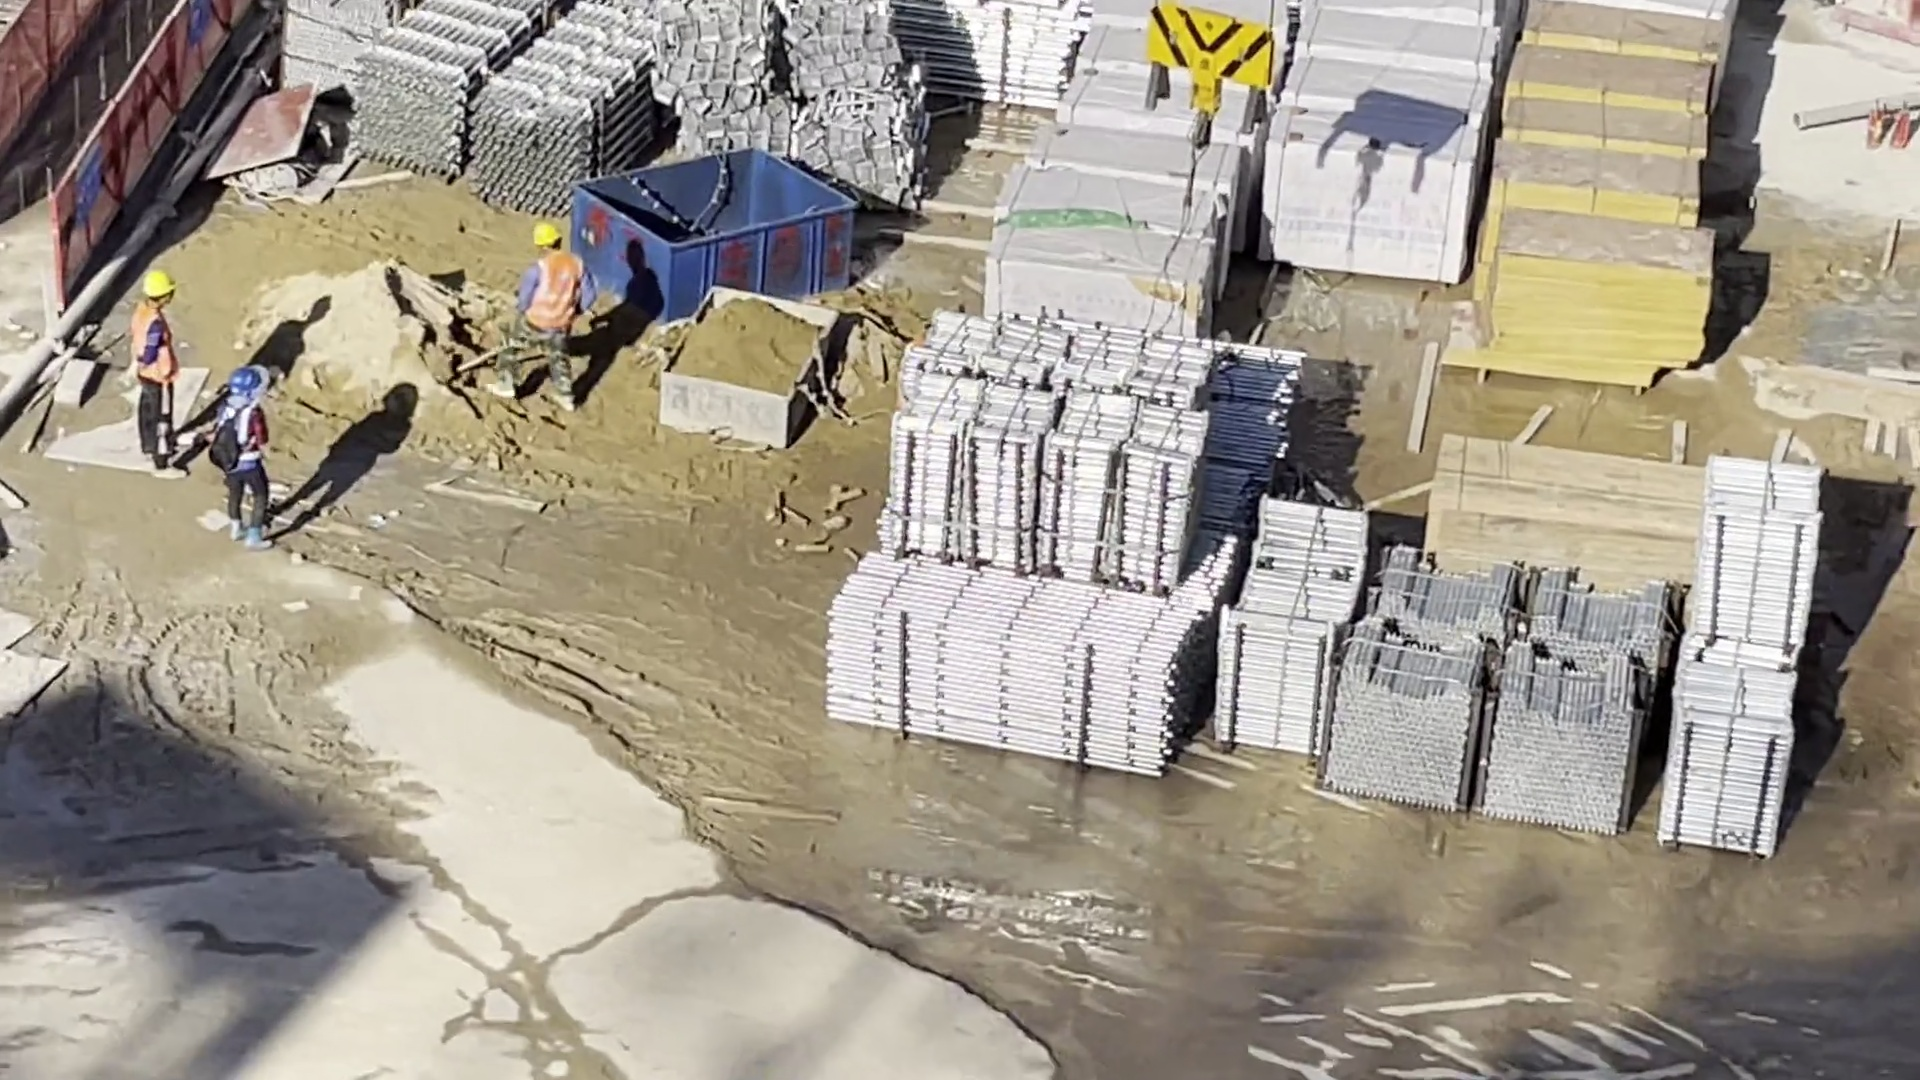fence: (4, 3, 254, 289)
helmet: (134, 255, 177, 297), (513, 221, 568, 251), (225, 364, 270, 398)
hook: (1140, 1, 1289, 159)
hopper: (582, 133, 856, 299), (648, 270, 832, 444)
person: (494, 205, 589, 414), (114, 247, 192, 481), (213, 364, 288, 538)
scaffold: (889, 317, 1336, 784), (1376, 537, 1618, 824), (341, 1, 593, 207), (1697, 449, 1811, 870)
vest: (518, 248, 579, 333), (126, 302, 183, 388)
